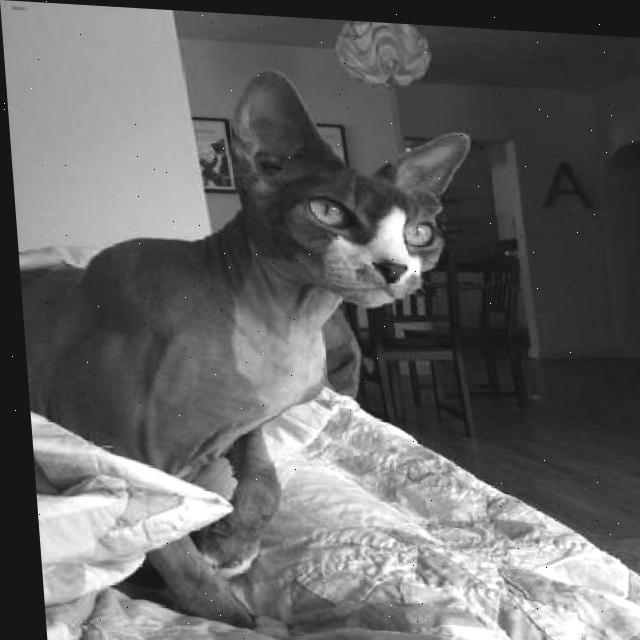Cat: (4, 52, 505, 640)
